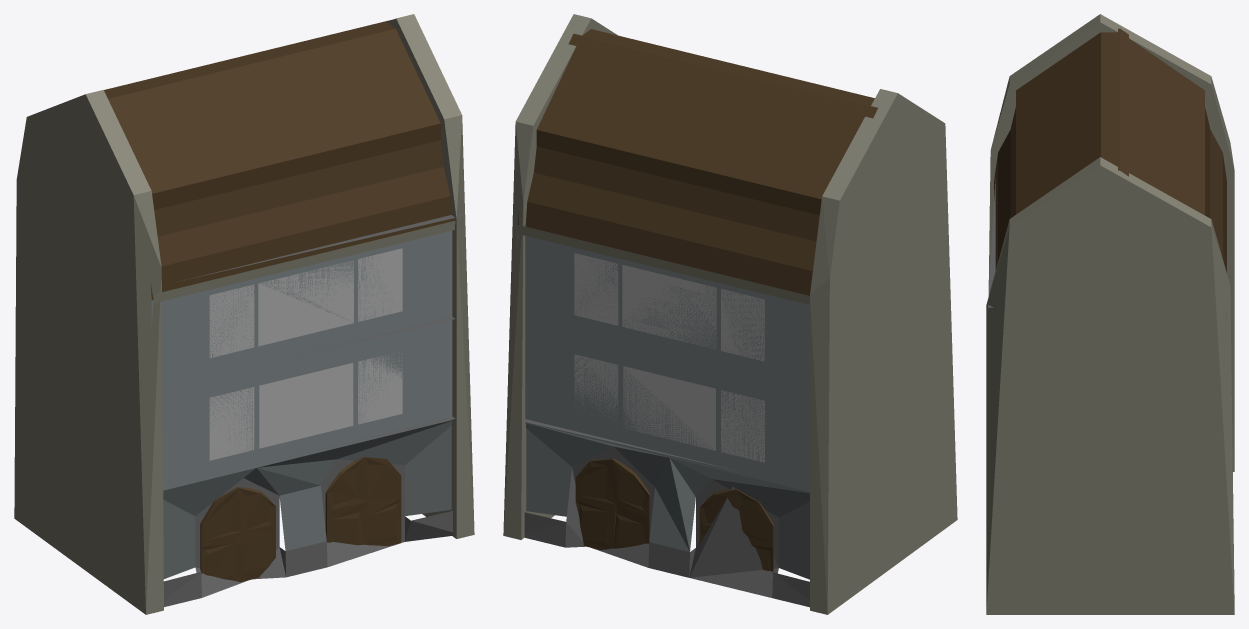
File: Building2_Small_lod.glb
The picture shows the model from 3 angles, left to right: view 1: azimuth 30°, elevation 25°; view 2: azimuth 150°, elevation 25°; view 3: azimuth 270°, elevation 25°; orthographic projection. The views are drawn at different scales.
Parts seen in each view (by area): view 1: Building2_Small; view 2: Building2_Small; view 3: Building2_Small.
Part boxes in pixels (<box>): Building2_Small: <box>14,14,474,614</box>; Building2_Small: <box>503,14,957,614</box>; Building2_Small: <box>986,14,1234,614</box>.
Size of the model in its own units: 3.58 by 4.97 by 2.49.
